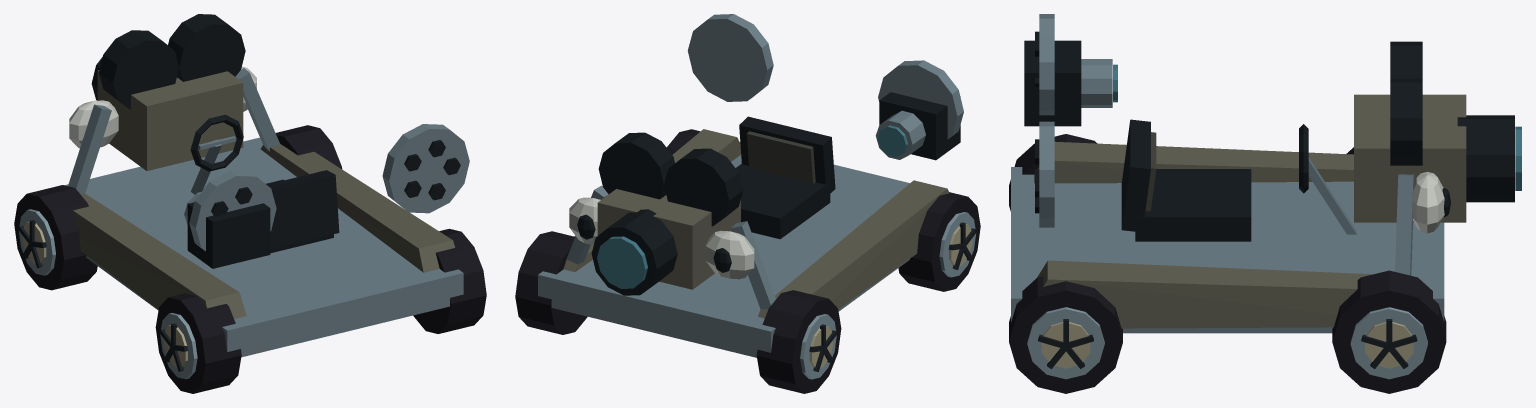
Rendered from kart.glb.
The picture shows the model from 3 angles, left to right: view 1: azimuth 30°, elevation 25°; view 2: azimuth 150°, elevation 25°; view 3: azimuth 270°, elevation 25°; orthographic projection. The views are drawn at different scales.
Visible parts, largest first — view 1: identity-camera-rig-camera-dolly-and-lens, identity-camera-rig-motif-film, wheel-rear-left, identity-camera-rig-driver-cockpit, wheel-front-left, identity-camera-rig-motif-camera, wheel-rear-right, wheel-front-right, identity-camera-rig-motif-eyes; view 2: identity-camera-rig-camera-dolly-and-lens, identity-camera-rig-driver-cockpit, identity-camera-rig-motif-film, wheel-front-left, wheel-rear-left, identity-camera-rig-motif-camera, wheel-front-right, identity-camera-rig-motif-eyes; view 3: identity-camera-rig-camera-dolly-and-lens, identity-camera-rig-driver-cockpit, wheel-front-right, wheel-rear-right, identity-camera-rig-motif-camera, identity-camera-rig-motif-film, identity-camera-rig-motif-eyes, wheel-rear-left.
Part boxes in pixels (left/top/right/bottom): identity-camera-rig-camera-dolly-and-lens: left=65, top=14, right=463, bottom=357; identity-camera-rig-motif-film: left=189, top=124, right=469, bottom=251; wheel-rear-left: left=155, top=293, right=241, bottom=393; identity-camera-rig-driver-cockpit: left=190, top=114, right=339, bottom=253; wheel-front-left: left=14, top=185, right=97, bottom=290; identity-camera-rig-motif-camera: left=184, top=192, right=270, bottom=268; wheel-rear-right: left=413, top=228, right=486, bottom=333; wheel-front-right: left=275, top=125, right=342, bottom=168; identity-camera-rig-motif-eyes: left=69, top=66, right=256, bottom=148; identity-camera-rig-camera-dolly-and-lens: left=538, top=129, right=949, bottom=357; identity-camera-rig-driver-cockpit: left=735, top=116, right=835, bottom=239; identity-camera-rig-motif-film: left=687, top=14, right=963, bottom=139; wheel-front-left: left=756, top=290, right=841, bottom=393; wheel-rear-left: left=898, top=192, right=980, bottom=291; identity-camera-rig-motif-camera: left=875, top=92, right=960, bottom=160; wheel-front-right: left=515, top=231, right=587, bottom=334; identity-camera-rig-motif-eyes: left=569, top=197, right=754, bottom=279; identity-camera-rig-camera-dolly-and-lens: left=1011, top=41, right=1521, bottom=333; identity-camera-rig-driver-cockpit: left=1121, top=119, right=1356, bottom=241; wheel-front-right: left=1332, top=270, right=1446, bottom=393; wheel-rear-right: left=1009, top=276, right=1122, bottom=393; identity-camera-rig-motif-camera: left=1024, top=40, right=1117, bottom=126; identity-camera-rig-motif-film: left=1035, top=14, right=1054, bottom=227; identity-camera-rig-motif-eyes: left=1412, top=171, right=1450, bottom=233; wheel-rear-left: left=1009, top=134, right=1097, bottom=211.
Size of the model in its own units: 2.07 by 1.46 by 2.7.
